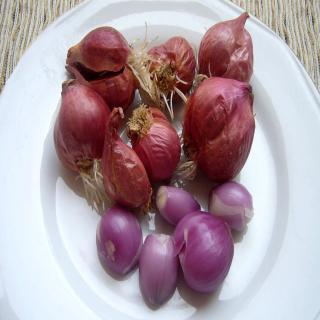Bawang Merah: (54, 12, 257, 311)
